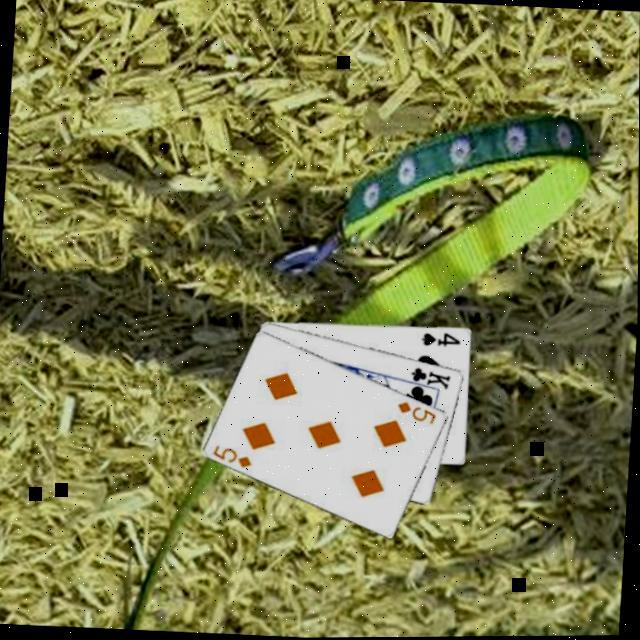4S: (421, 330, 466, 352)
5D: (212, 444, 259, 473), (396, 401, 442, 430)
KC: (404, 366, 456, 398)
